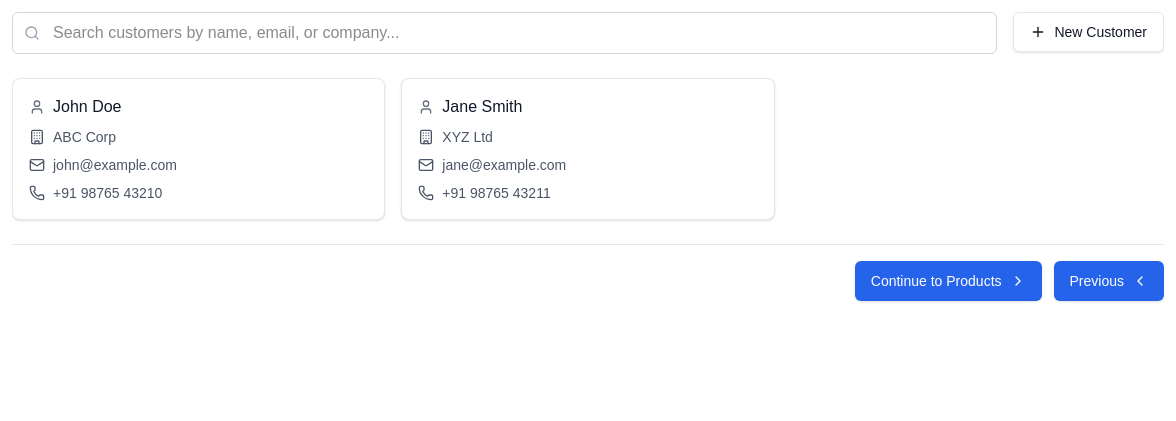
CustomerSelectionStep › shows no customers message when search returns no results
In the field with placeholder "Search customers by name, email, or company...": (505, 33) [12,12,997,54], type "NonexistentCustomer"
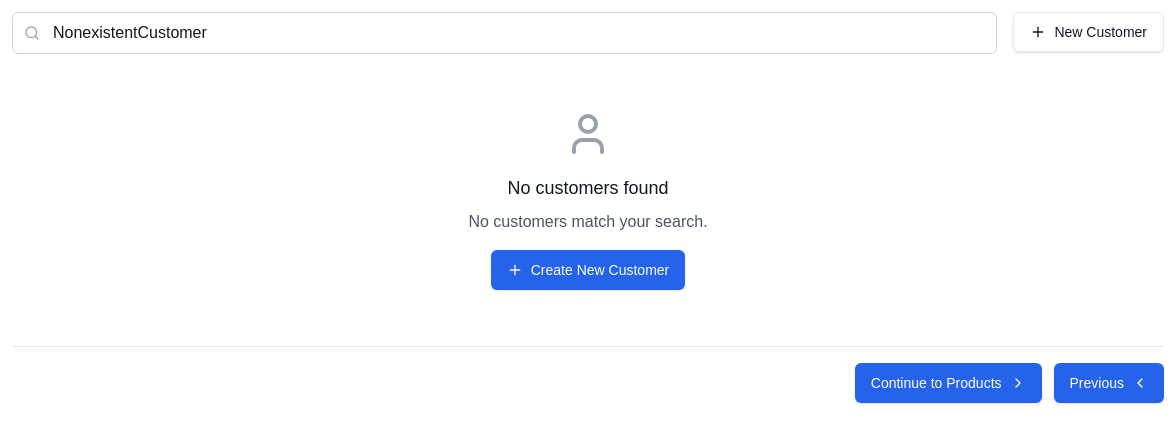
Expected: the heading "No customers found" is shown, [508,178,669,198]
Expected: the text "No customers match your search." is shown, [468,213,708,230]
